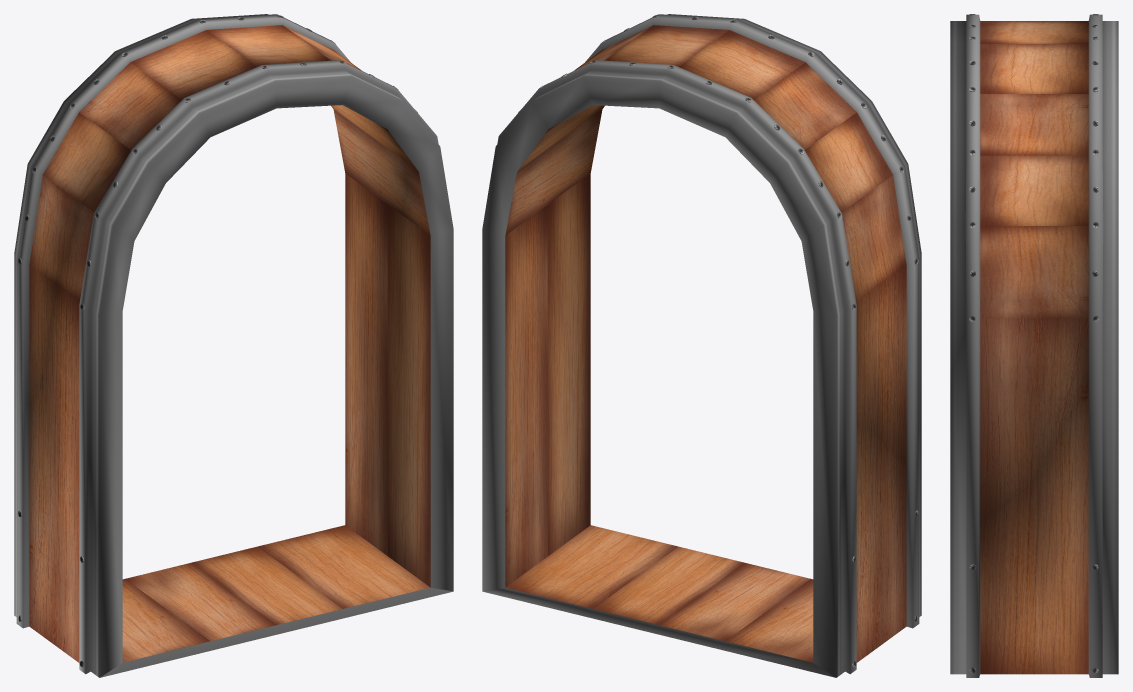
File: Portal_Archway-DarkWood.fbx
3 renders of one model, left to right at view 1: azimuth 30°, elevation 25°; view 2: azimuth 150°, elevation 25°; view 3: azimuth 270°, elevation 25°, orthographic.
Visible parts, largest first — view 1: Portal_Archway-DarkWood; view 2: Portal_Archway-DarkWood; view 3: Portal_Archway-DarkWood.
Part boxes in pixels (box(x1,y1,x2,y2)): Portal_Archway-DarkWood: box(14, 14, 453, 677); Portal_Archway-DarkWood: box(482, 14, 921, 677); Portal_Archway-DarkWood: box(950, 14, 1118, 677).
Size of the model in its own units: 646 by 939 by 259.
1 material, 1 textured.
